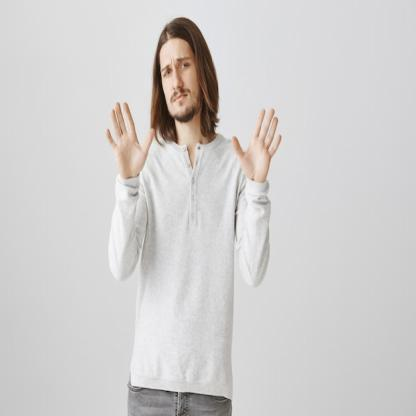stop: (230, 103, 284, 185), (103, 99, 156, 182)
